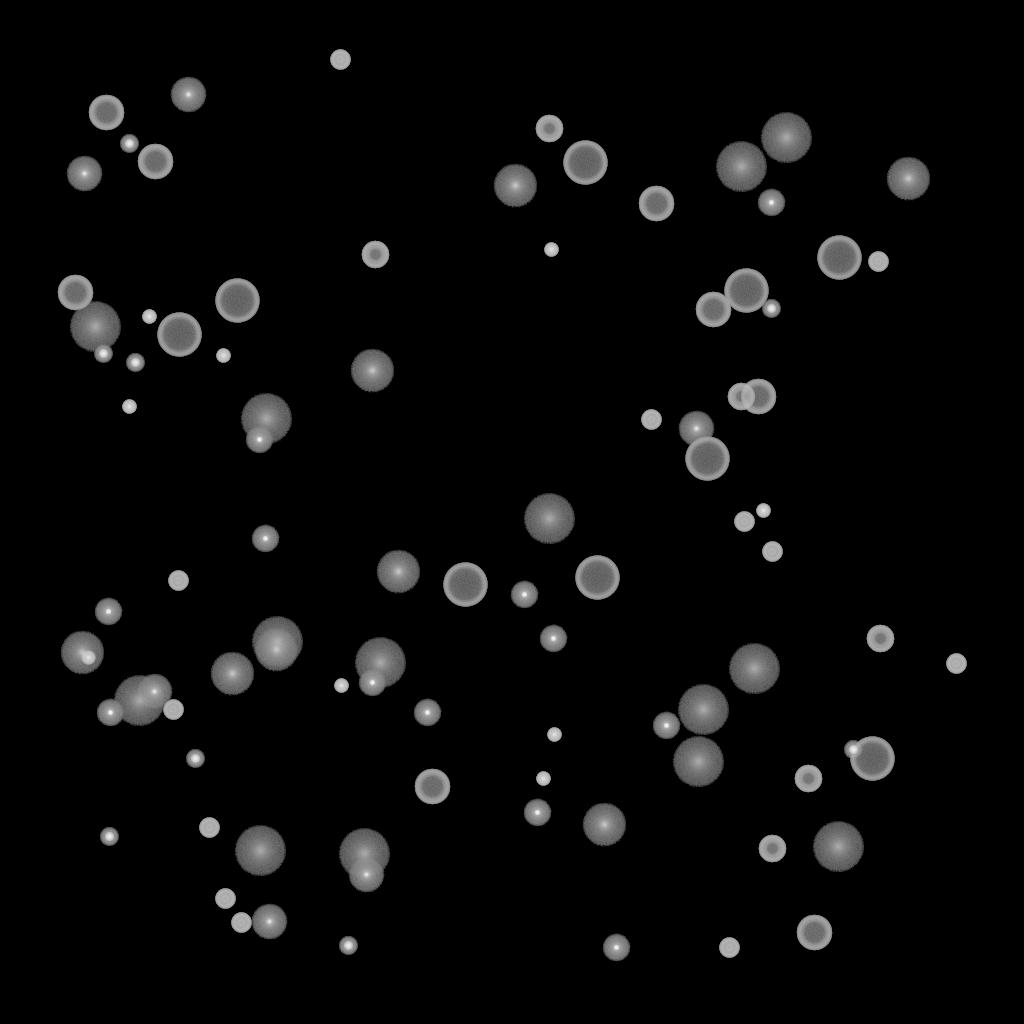depth:-10: (510, 581, 538, 609), (245, 426, 273, 454), (539, 625, 567, 653), (251, 525, 279, 553), (96, 699, 124, 727), (94, 598, 122, 626), (358, 669, 386, 697), (757, 189, 785, 217), (523, 799, 551, 827), (652, 712, 680, 740), (602, 934, 630, 962), (413, 699, 441, 727)
depth:-20: (100, 828, 118, 846), (186, 750, 204, 768), (844, 741, 862, 759), (126, 354, 144, 372), (762, 300, 780, 318), (120, 135, 138, 153), (94, 345, 112, 363), (339, 937, 357, 955)
depth:-30: (216, 349, 230, 363), (334, 679, 348, 693), (544, 243, 558, 257), (122, 400, 136, 414), (536, 772, 550, 786), (756, 504, 770, 518), (547, 728, 561, 742), (81, 651, 95, 665), (142, 310, 156, 324)
depth:-40: (762, 542, 782, 562), (231, 913, 251, 933), (734, 512, 754, 532), (168, 571, 188, 591), (641, 410, 661, 430), (330, 50, 350, 70), (199, 818, 219, 838), (868, 252, 888, 272), (163, 700, 183, 720), (946, 654, 966, 674), (719, 938, 739, 958), (215, 889, 235, 909)
depth:-50: (758, 835, 786, 863), (361, 241, 389, 269), (794, 765, 822, 793), (866, 625, 894, 653), (535, 115, 563, 143), (727, 383, 755, 411)
depth:-60: (57, 275, 93, 311), (695, 292, 731, 328), (88, 95, 124, 131), (638, 186, 674, 222), (414, 769, 450, 805), (740, 379, 776, 415), (137, 144, 173, 180), (796, 915, 832, 951)
depth:-70: (850, 737, 894, 781), (817, 236, 861, 280), (685, 437, 729, 481), (157, 313, 201, 357), (443, 563, 487, 607), (563, 141, 607, 185), (215, 279, 259, 323), (575, 556, 619, 600), (724, 269, 768, 313)
depth:0: (678, 411, 714, 447), (251, 904, 287, 940), (170, 77, 206, 113), (136, 674, 172, 710), (66, 156, 102, 192), (348, 857, 384, 893)
depth:10: (254, 628, 298, 672), (582, 803, 626, 847), (210, 652, 254, 696), (60, 631, 104, 675), (493, 164, 537, 208), (886, 157, 930, 201), (376, 550, 420, 594), (350, 349, 394, 393)
depth:20: (251, 617, 303, 667), (354, 638, 406, 688), (69, 302, 121, 352), (728, 644, 780, 694), (234, 826, 286, 876), (523, 494, 575, 544), (677, 685, 729, 735), (812, 822, 864, 872), (672, 737, 724, 787), (760, 113, 812, 163), (113, 676, 165, 726), (715, 142, 767, 192), (338, 829, 390, 879), (240, 394, 292, 444)
